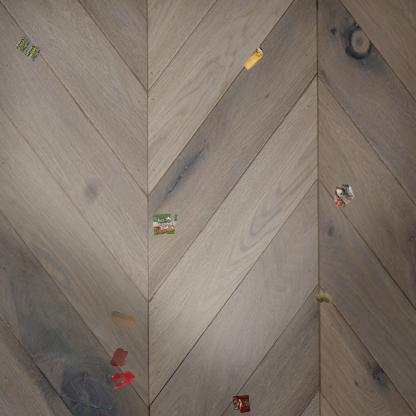dirty: (14, 35, 44, 63), (151, 212, 179, 238), (241, 43, 266, 71), (332, 181, 356, 209), (109, 309, 137, 329), (231, 394, 252, 416), (312, 289, 335, 306)
liquid: (110, 370, 135, 391), (108, 346, 130, 368)
